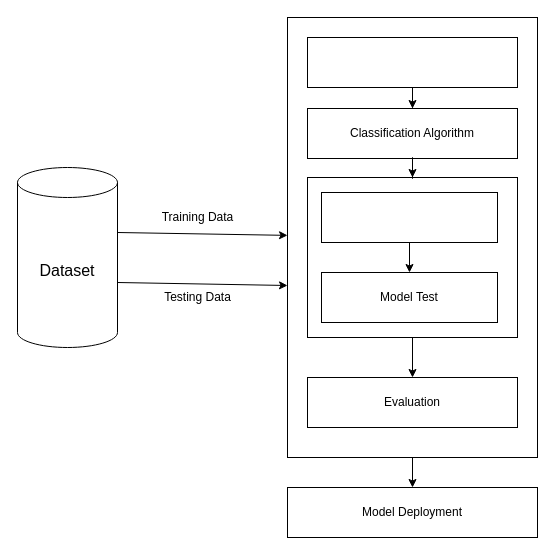
Image size: 555x555. Some labels were removed from this diagram. The shapes that lost their labels are listed below. From the top down, each one's centre as x and y in pixels, then its label:
At (x=412, y=62): "Preprocessing".
At (x=409, y=217): "Classification Model".
